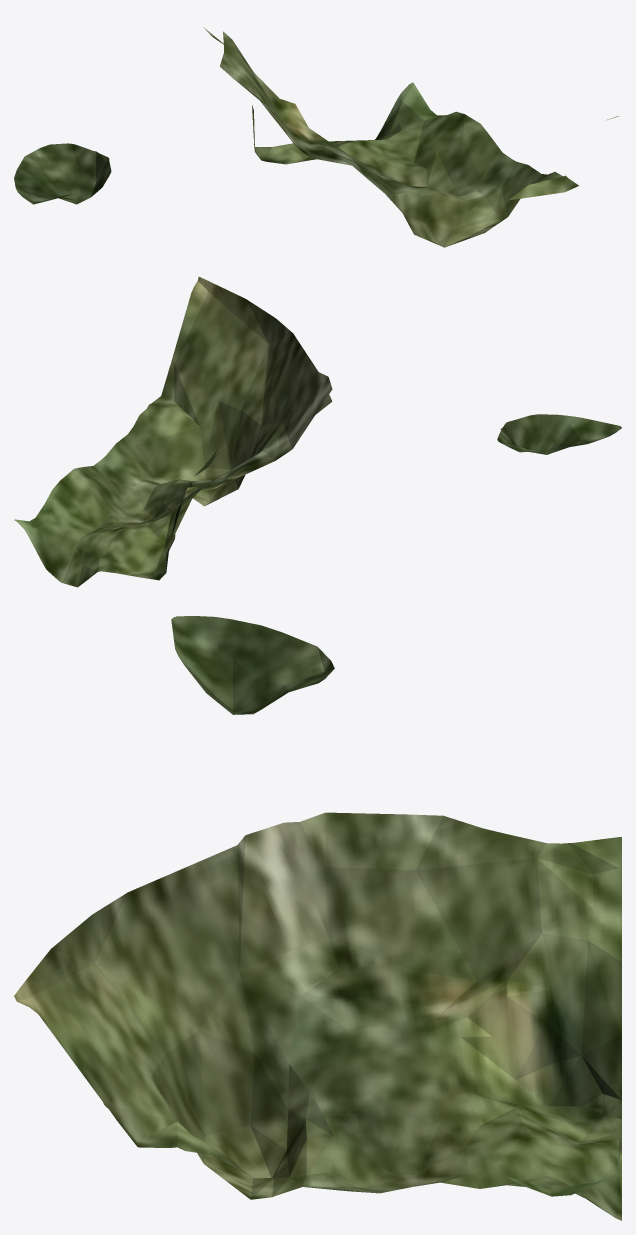
3 views of the same model, one above another, from view 1: azimuth 30°, elevation 25°; view 2: azimuth 150°, elevation 25°; view 3: azimuth 270°, elevation 25° (orthographic). The views are drawn at different scales.
Size of the model in its own units: 3.76 by 1.22 by 2.54.
1 material, 1 textured.
